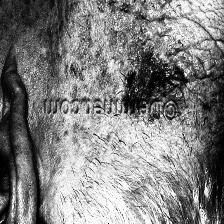Potentially Malignant Skin Tumors: (125, 58, 185, 108)
